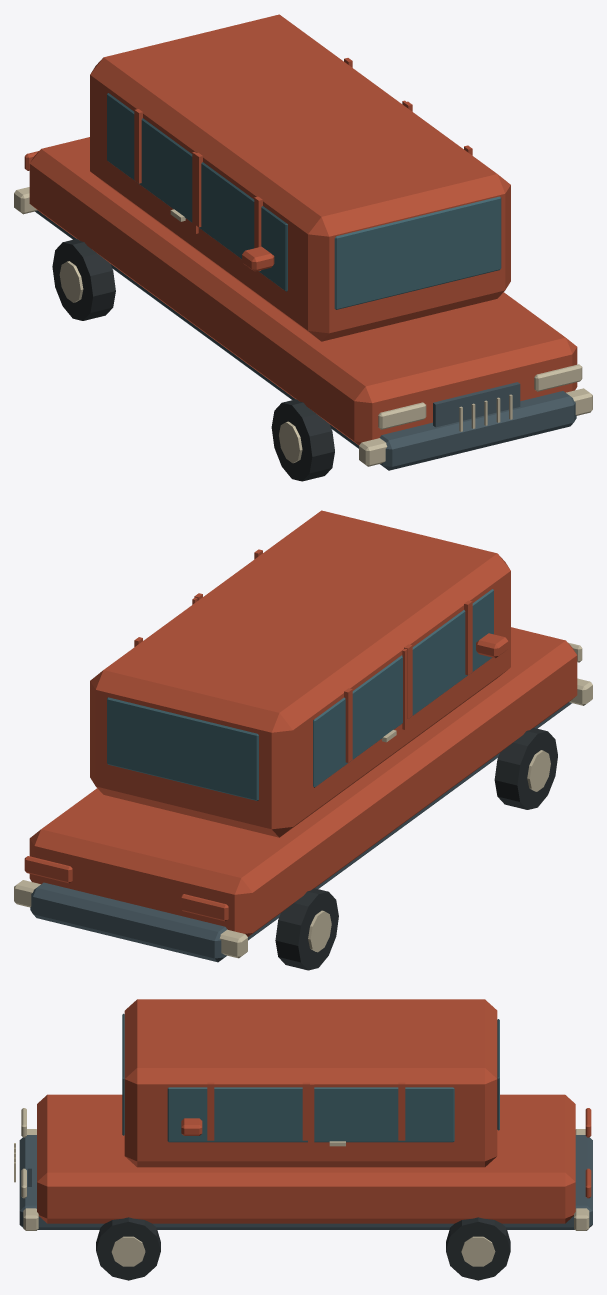
Rendered from vehicle_minibus.glb.
3 views of the same model, one above another, from view 1: azimuth 30°, elevation 25°; view 2: azimuth 150°, elevation 25°; view 3: azimuth 270°, elevation 25° (orthographic). The views are drawn at different scales.
Parts seen in each view (by area): view 1: vehicle_minibus; view 2: vehicle_minibus; view 3: vehicle_minibus.
Boxes of the visible parts, x1,y1,x2,y2 form: vehicle_minibus: (14,14,592,481); vehicle_minibus: (14,510,592,970); vehicle_minibus: (14,999,592,1280).
Bounding box in the file's own units: 2.48 × 2.3 × 6.06.
